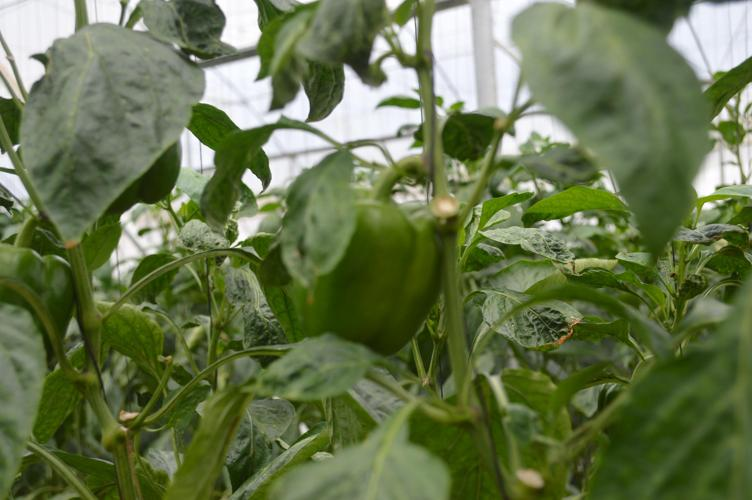BellPepper: (288, 189, 438, 356), (4, 246, 75, 354)
